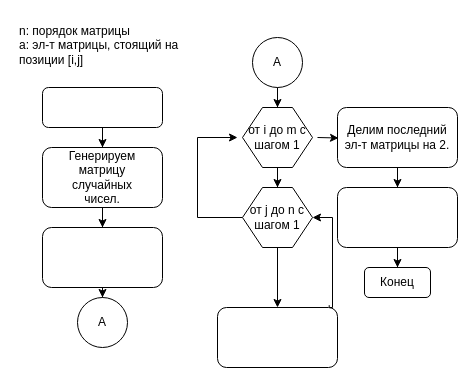
The diagram is 475 pixels wide and 385 high, and some of its shapes have lost their labels. The shapes that lost their labels are listed below. From the top down, each one's centre as x and y in pixels, then its label:
At (102,107): "Начало".
At (397,217): "Выводим матрицу".
At (102,257): "Выводим исходную матрицу.".
At (277,337): "перезаписываем a-ый элемент a = a * ((i+j)/(n-1));".
